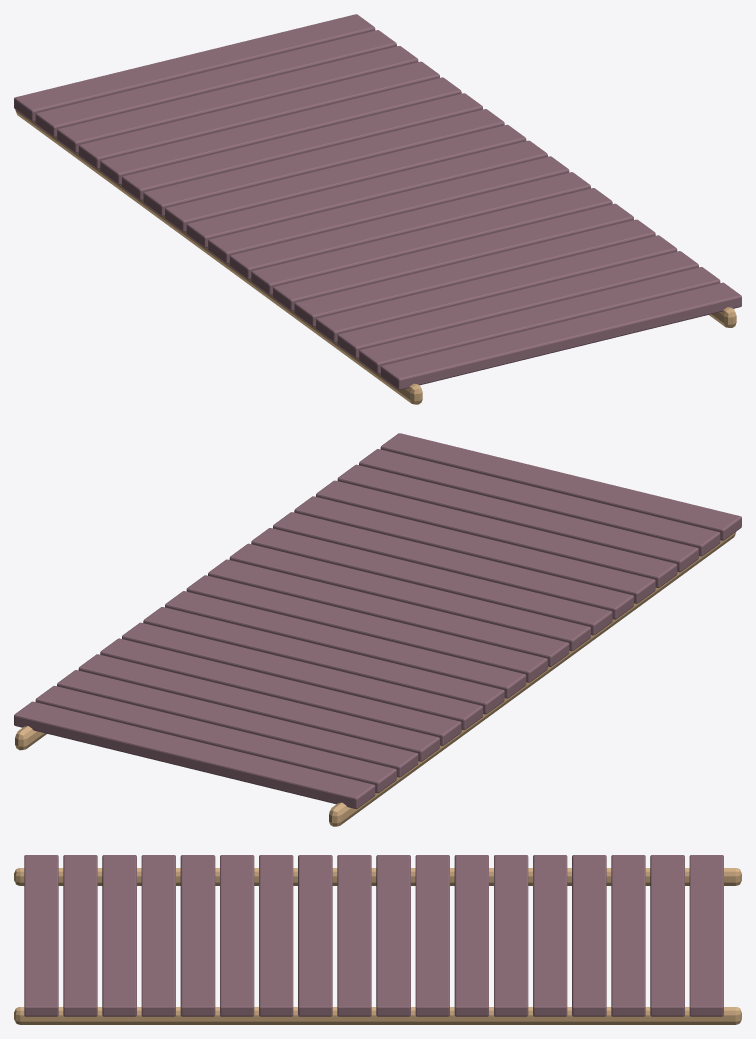
The model's file is bridge.glb.
3 renders of one model, top to bottom at view 1: azimuth 30°, elevation 25°; view 2: azimuth 150°, elevation 25°; view 3: azimuth 270°, elevation 25°, orthographic. The views are drawn at different scales.
Visible parts, largest first — view 1: Bridge plank, Bridge plank.007, Bridge plank.014, Bridge plank.009, Bridge plank.017, Bridge plank.016, Bridge plank.001, Bridge plank.002, Bridge plank.006, Bridge plank.013, Bridge plank.015, Bridge plank.003 (+7 smaller); view 2: Bridge plank.017, Bridge plank.003, Bridge plank.010, Bridge plank, Bridge plank.006, Bridge plank.014, Bridge plank.013, Bridge plank.016, Bridge plank.001, Bridge plank.002, Bridge plank.007, Bridge plank.011 (+7 smaller); view 3: Bridge runner.001, Bridge plank.004, Bridge plank, Bridge plank.001, Bridge plank.003, Bridge plank.008, Bridge plank.010, Bridge plank.013, Bridge plank.015, Bridge plank.017, Bridge plank.002, Bridge plank.005 (+8 smaller).
Part boxes in pixels (x1=…): Bridge plank: x1=380, y1=282, x2=741, y2=389; Bridge plank.007: x1=229, y1=172, x2=590, y2=279; Bridge plank.014: x1=78, y1=61, x2=439, y2=168; Bridge plank.009: x1=186, y1=140, x2=547, y2=247; Bridge plank.017: x1=14, y1=14, x2=375, y2=121; Bridge plank.016: x1=35, y1=30, x2=396, y2=137; Bridge plank.001: x1=359, y1=267, x2=720, y2=374; Bridge plank.002: x1=337, y1=251, x2=698, y2=358; Bridge plank.006: x1=251, y1=188, x2=612, y2=295; Bridge plank.013: x1=100, y1=77, x2=461, y2=184; Bridge plank.015: x1=57, y1=46, x2=418, y2=153; Bridge plank.003: x1=316, y1=235, x2=677, y2=342; Bridge plank.017: x1=14, y1=701, x2=375, y2=808; Bridge plank.003: x1=316, y1=480, x2=677, y2=587; Bridge plank.010: x1=165, y1=591, x2=526, y2=698; Bridge plank: x1=380, y1=433, x2=741, y2=540; Bridge plank.006: x1=251, y1=528, x2=612, y2=635; Bridge plank.014: x1=78, y1=654, x2=439, y2=761; Bridge plank.013: x1=100, y1=638, x2=461, y2=745; Bridge plank.016: x1=35, y1=685, x2=396, y2=793; Bridge plank.001: x1=359, y1=449, x2=720, y2=556; Bridge plank.002: x1=337, y1=464, x2=698, y2=572; Bridge plank.007: x1=229, y1=543, x2=590, y2=651; Bridge plank.011: x1=143, y1=607, x2=504, y2=714; Bridge runner.001: x1=14, y1=1007, x2=741, y2=1024; Bridge plank.004: x1=180, y1=855, x2=215, y2=1016; Bridge plank: x1=24, y1=855, x2=58, y2=1016; Bridge plank.001: x1=63, y1=855, x2=97, y2=1016; Bridge plank.003: x1=141, y1=855, x2=175, y2=1016; Bridge plank.008: x1=337, y1=855, x2=371, y2=1016; Bridge plank.010: x1=415, y1=855, x2=449, y2=1016; Bridge plank.013: x1=533, y1=855, x2=567, y2=1016; Bridge plank.015: x1=611, y1=855, x2=645, y2=1016; Bridge plank.017: x1=689, y1=855, x2=723, y2=1016; Bridge plank.002: x1=102, y1=855, x2=136, y2=1016; Bridge plank.005: x1=220, y1=855, x2=254, y2=1016.
Bounding box in the file's own units: 4.6 × 0.35 × 9.3.
